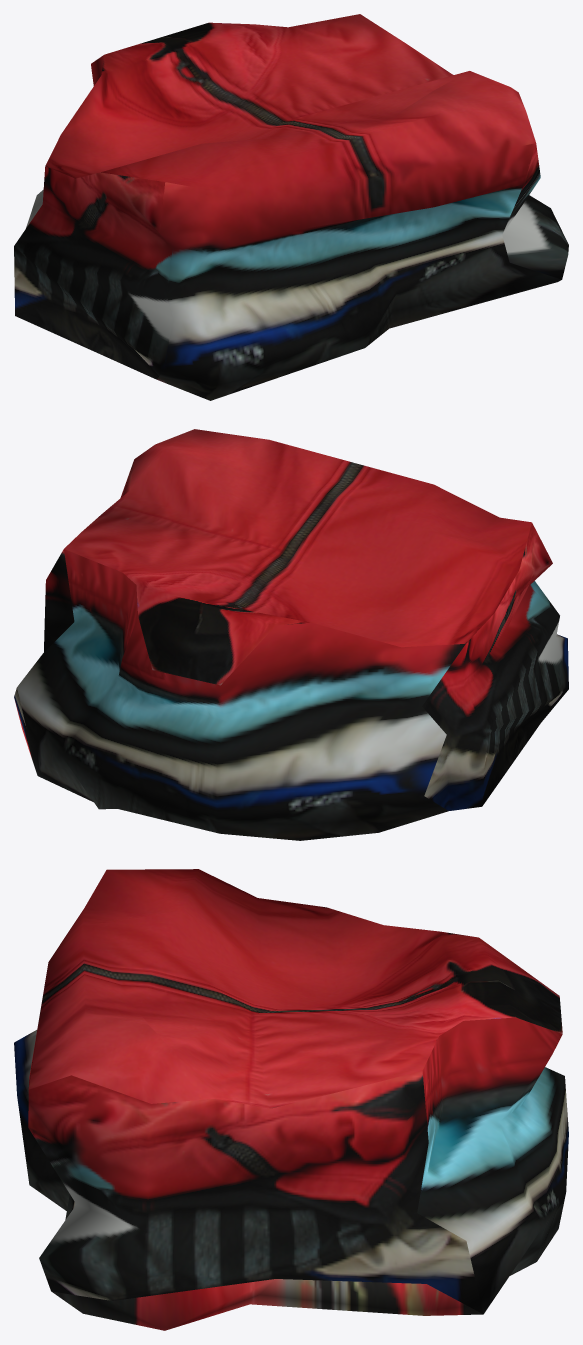
The model's file is shirt_pile-3.FBX.
3 views of the same model, one above another, from view 1: azimuth 30°, elevation 25°; view 2: azimuth 150°, elevation 25°; view 3: azimuth 270°, elevation 25° (orthographic). The views are drawn at different scales.
Visible parts, largest first — view 1: Line01; view 2: Line01; view 3: Line01.
Part boxes in pixels (x1=…): Line01: x1=14, y1=14, x2=568, y2=400; Line01: x1=14, y1=429, x2=568, y2=840; Line01: x1=14, y1=869, x2=568, y2=1330.
Bounding box in the file's own units: 24.05 × 11.53 × 21.14.
